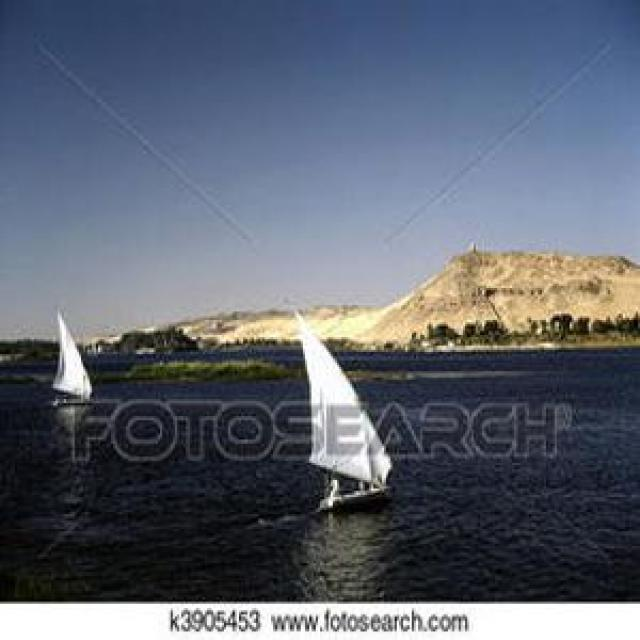sailboat: (288, 309, 393, 512), (41, 311, 92, 406)
